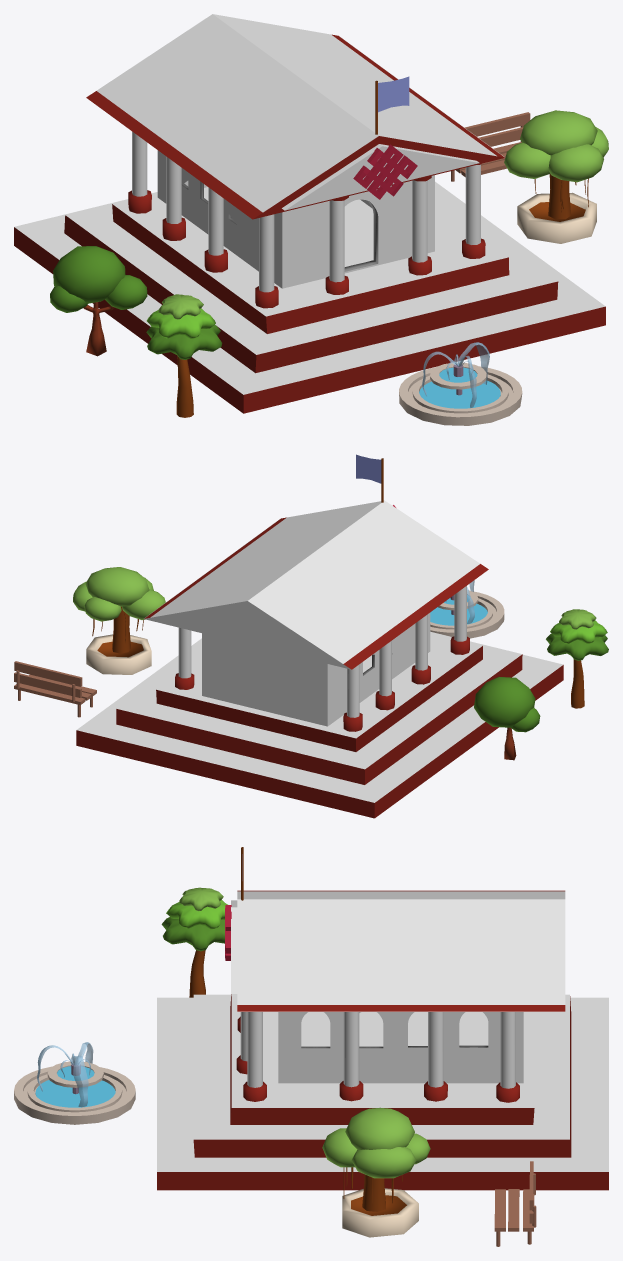
Rendered from Temple FBX.fbx.
3 views of the same model, one above another, from view 1: azimuth 30°, elevation 25°; view 2: azimuth 150°, elevation 25°; view 3: azimuth 270°, elevation 25° (orthographic). The views are drawn at different scales.
Parts seen in each view (by area): view 1: Temple.001, Stairs, Temple, Small Banyan tree, Small Fountain, Tree2, Tree, Bench; view 2: Stairs, Temple.001, Temple, Small Banyan tree, Tree2, Tree, Small Fountain, Bench; view 3: Stairs, Temple.001, Temple, Small Banyan tree, Small Fountain, Tree, Bench.
Part boxes in pixels (x1,y1,x2,y2): Temple.001: (86, 14, 505, 308); Stairs: (14, 181, 605, 413); Temple: (157, 150, 434, 288); Small Banyan tree: (504, 110, 608, 243); Small Fountain: (399, 342, 522, 425); Tree2: (50, 246, 147, 356); Tree: (146, 294, 222, 417); Bench: (451, 112, 530, 181); Stairs: (76, 631, 563, 818); Temple.001: (144, 454, 488, 731); Temple: (202, 613, 430, 726); Small Banyan tree: (73, 567, 165, 674); Tree2: (474, 676, 540, 760); Tree: (546, 609, 608, 708); Small Fountain: (430, 580, 504, 638); Bench: (14, 661, 96, 717); Stairs: (157, 994, 608, 1190); Temple.001: (225, 847, 565, 1102); Temple: (278, 1012, 523, 1083); Small Banyan tree: (322, 1107, 430, 1237); Small Fountain: (14, 1042, 135, 1124); Tree: (161, 887, 227, 997); Bench: (494, 1161, 536, 1246).
Bounding box in the file's own units: 136 × 61.9 × 128.
